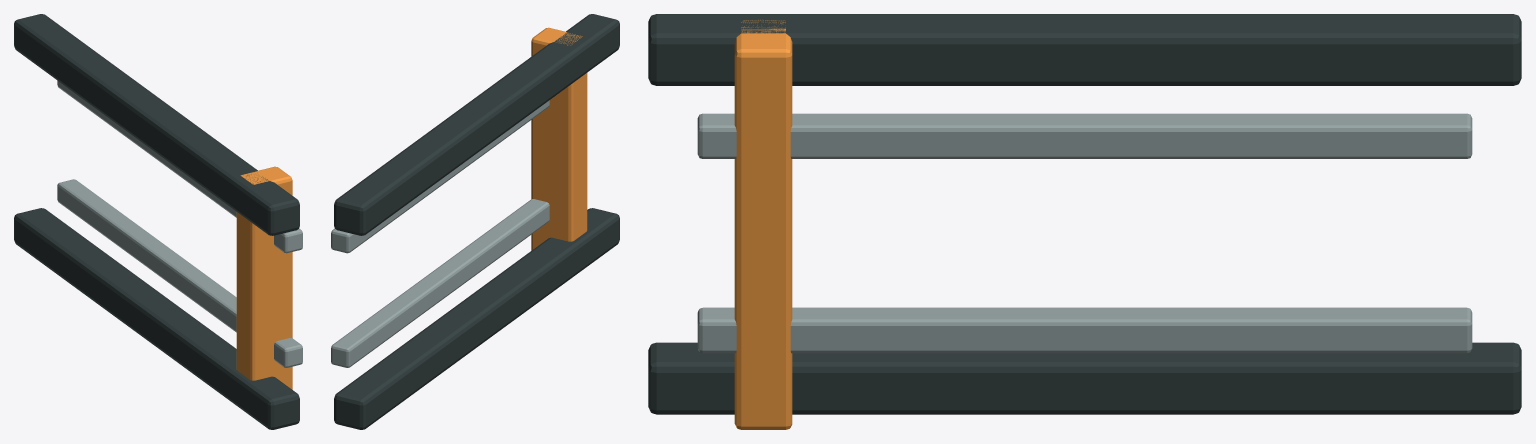
The model's file is forklift_mast.glb.
3 renders of one model, left to right at view 1: azimuth 30°, elevation 25°; view 2: azimuth 150°, elevation 25°; view 3: azimuth 270°, elevation 25°, orthographic. The views are drawn at different scales.
Parts seen in each view (by area): view 1: forklift_mast_rail_left, forklift_mast_rail_right, forklift_mast_crossbar, forklift_inner_mast_right, forklift_inner_mast_left; view 2: forklift_mast_rail_left, forklift_mast_rail_right, forklift_mast_crossbar, forklift_inner_mast_right, forklift_inner_mast_left; view 3: forklift_mast_rail_left, forklift_mast_rail_right, forklift_inner_mast_right, forklift_inner_mast_left, forklift_mast_crossbar.
Part boxes in pixels (x1,y1,x2,y2): forklift_mast_rail_left: (14,14,299,235); forklift_mast_rail_right: (14,208,299,429); forklift_mast_crossbar: (236,166,292,389); forklift_inner_mast_right: (57,179,302,367); forklift_inner_mast_left: (57,80,302,253); forklift_mast_rail_left: (334,14,619,235); forklift_mast_rail_right: (334,208,619,429); forklift_mast_crossbar: (531,27,587,250); forklift_inner_mast_right: (331,199,549,367); forklift_inner_mast_left: (331,100,549,253); forklift_mast_rail_left: (648,14,1521,85); forklift_mast_rail_right: (648,342,1521,414); forklift_inner_mast_right: (697,307,1472,353); forklift_inner_mast_left: (697,113,1472,158); forklift_mast_crossbar: (734,20,792,429).
Size of the model in its own units: 0.1175 by 0.51 by 1.06.
